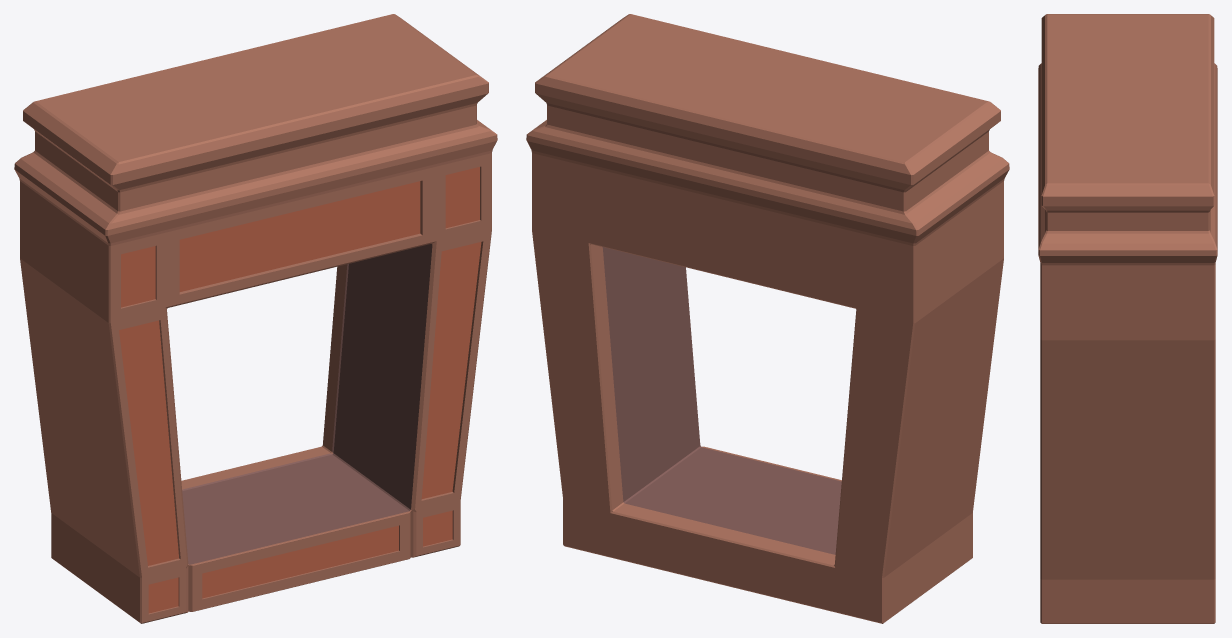
File: KAMIN_OFFEN.fbx
The picture shows the model from 3 angles, left to right: view 1: azimuth 30°, elevation 25°; view 2: azimuth 150°, elevation 25°; view 3: azimuth 270°, elevation 25°; orthographic projection. The views are drawn at different scales.
Visible parts, largest first — view 1: Box.004; view 2: Box.004; view 3: Box.004.
Boxes of the visible parts, <box> form: Box.004: <box>14,14,497,623</box>; Box.004: <box>526,14,1009,623</box>; Box.004: <box>1038,14,1217,623</box>.
Bounding box in the file's own units: 905 × 1023 × 369.
